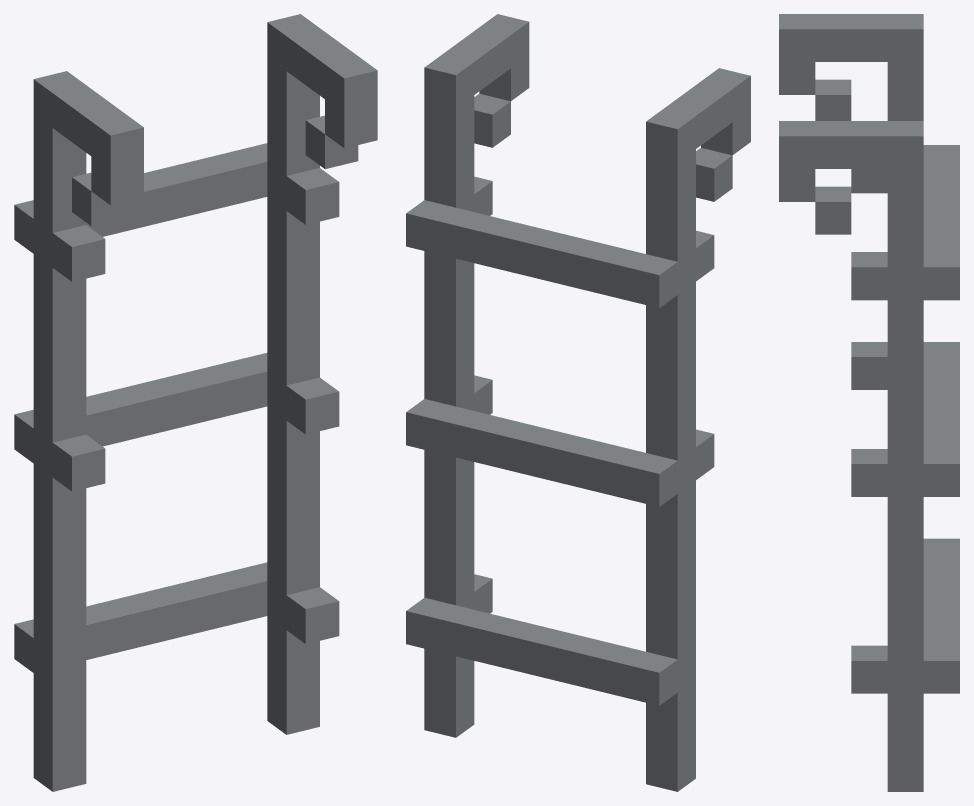
File: Other-9.obj
The picture shows the model from 3 angles, left to right: view 1: azimuth 30°, elevation 25°; view 2: azimuth 150°, elevation 25°; view 3: azimuth 270°, elevation 25°; orthographic projection. The views are drawn at different scales.
Size of the model in its own units: 0.8 by 2 by 0.5.
Materials: 1 (1 with a texture image).
